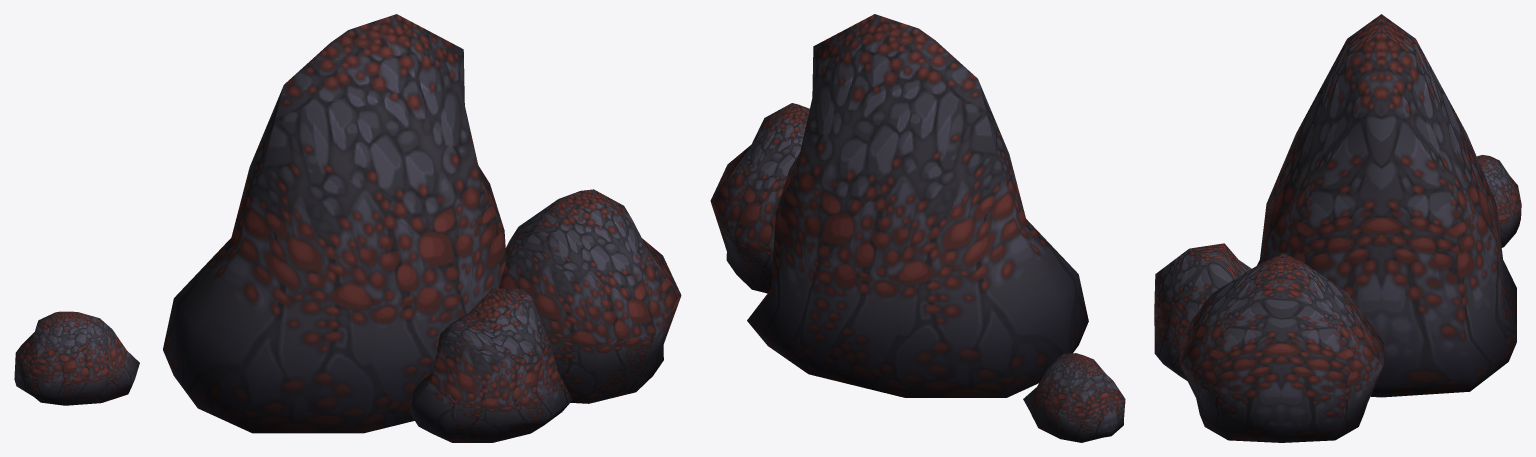
File: Rock_03_Group1.FBX
3 views of the same model, side by side, from view 1: azimuth 30°, elevation 25°; view 2: azimuth 150°, elevation 25°; view 3: azimuth 270°, elevation 25° (orthographic). The views are drawn at different scales.
Parts seen in each view (by area): view 1: Rock_03_Group1; view 2: Rock_03_Group1; view 3: Rock_03_Group1.
Boxes of the visible parts, x1,y1,x2,y2 form: Rock_03_Group1: [14, 14, 681, 442]; Rock_03_Group1: [710, 14, 1125, 442]; Rock_03_Group1: [1154, 14, 1521, 442].
Bounding box in the file's own units: 174 × 107 × 109.
